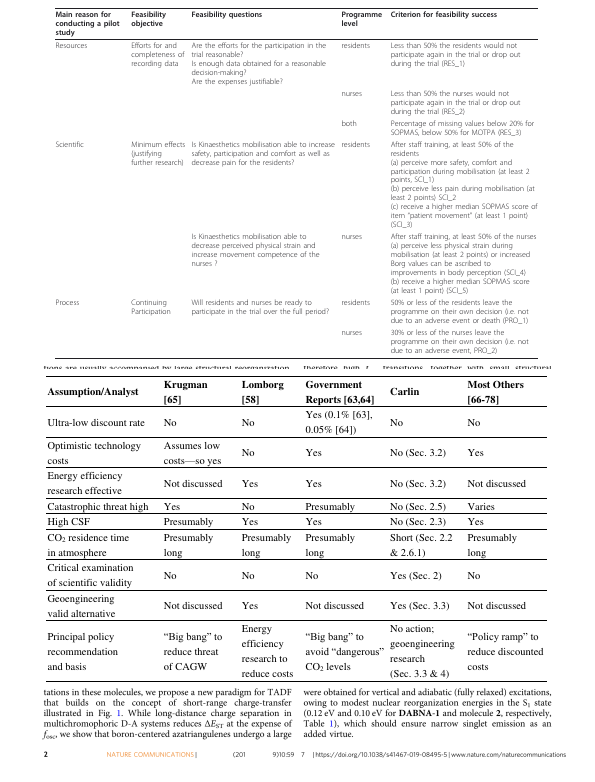borderless: (54, 6, 538, 358), (46, 374, 547, 681)
cell: (390, 140, 538, 230), (390, 232, 537, 296), (190, 41, 327, 86), (190, 232, 320, 269), (389, 622, 456, 681), (190, 140, 336, 167), (390, 298, 530, 326), (390, 328, 530, 356), (305, 628, 385, 674), (390, 41, 521, 69), (466, 628, 545, 673), (390, 89, 521, 116), (46, 630, 119, 673), (241, 622, 294, 681), (163, 628, 223, 673), (46, 439, 142, 467), (190, 298, 330, 317), (390, 119, 535, 137), (46, 561, 135, 590), (46, 531, 130, 559), (46, 469, 123, 498), (305, 377, 375, 406), (305, 408, 374, 437), (46, 592, 116, 620), (389, 531, 454, 559), (55, 10, 120, 37), (466, 377, 525, 406), (163, 439, 222, 468), (130, 41, 185, 69), (130, 140, 186, 167), (466, 531, 518, 559), (163, 531, 214, 559), (241, 531, 292, 559), (305, 531, 356, 559), (46, 500, 149, 513), (163, 377, 209, 406), (46, 385, 139, 399), (46, 416, 146, 429), (241, 377, 285, 406), (390, 10, 498, 19), (389, 599, 451, 613), (466, 599, 527, 613), (163, 599, 223, 613), (305, 599, 365, 613), (389, 446, 447, 460), (389, 515, 447, 529), (130, 298, 172, 317), (466, 477, 527, 490), (163, 477, 223, 490), (340, 10, 383, 28), (389, 477, 447, 490), (389, 500, 447, 513), (163, 515, 214, 529), (389, 569, 443, 582), (130, 10, 167, 28), (305, 500, 356, 513), (190, 10, 263, 19), (46, 515, 91, 529), (389, 385, 420, 399), (466, 500, 496, 513), (55, 41, 88, 51), (340, 41, 371, 51), (340, 298, 371, 308), (54, 140, 85, 149), (340, 140, 371, 149), (466, 446, 485, 460), (466, 515, 485, 529), (54, 298, 80, 308), (305, 446, 323, 460), (241, 515, 259, 529), (305, 515, 323, 529), (241, 599, 259, 613), (241, 477, 259, 490), (305, 477, 323, 490), (163, 500, 181, 513), (340, 232, 363, 242), (340, 328, 363, 338), (241, 446, 256, 460), (340, 89, 363, 98), (163, 416, 178, 429), (241, 416, 256, 429), (389, 416, 404, 429), (466, 416, 481, 429), (241, 500, 256, 513), (163, 569, 178, 582), (241, 569, 256, 582), (466, 569, 481, 582), (305, 569, 319, 582), (340, 119, 358, 128)
